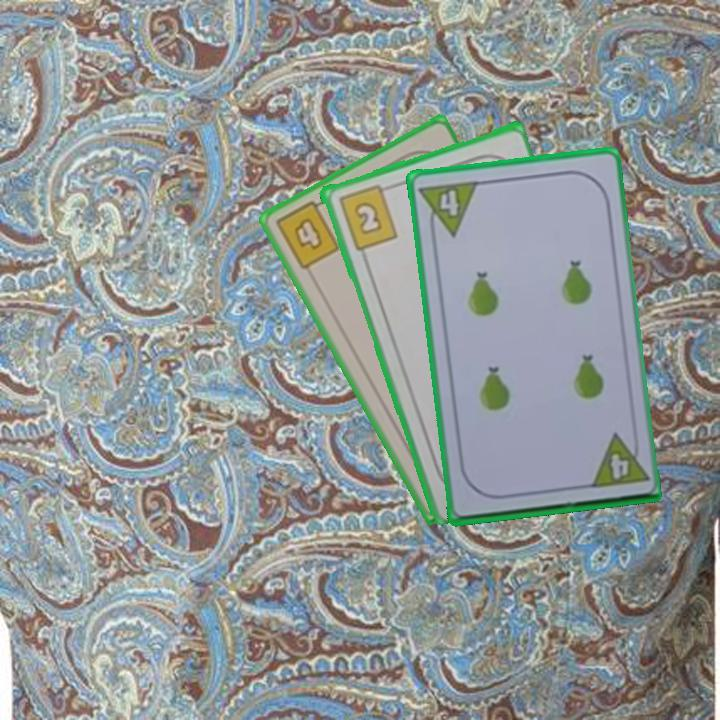2b: (334, 180, 400, 253)
4b: (271, 194, 343, 273)
4p: (416, 177, 481, 241), (585, 429, 650, 491)
